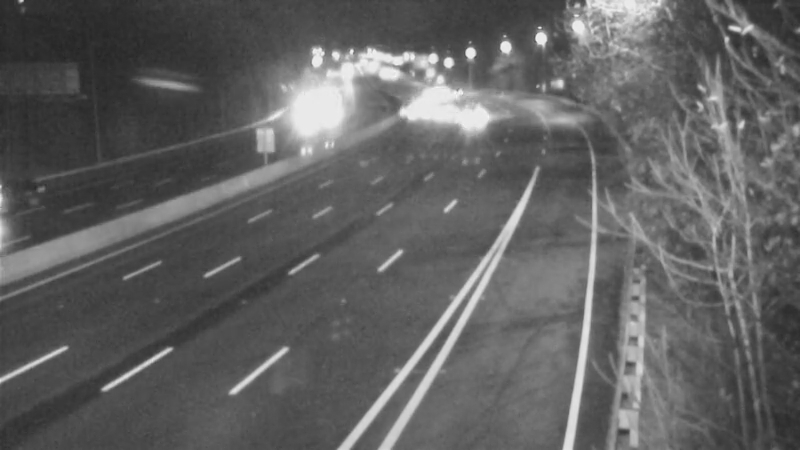vehicle: (1, 155, 66, 235), (406, 71, 456, 121), (416, 89, 466, 139), (392, 86, 442, 136), (447, 91, 497, 141)
